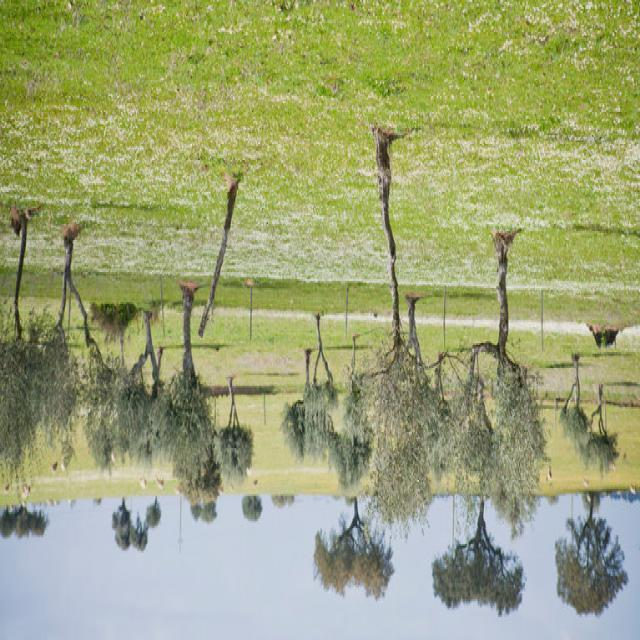tree: (351, 135, 441, 538), (432, 232, 552, 528), (42, 228, 114, 452), (0, 222, 62, 482), (430, 480, 534, 616), (94, 305, 176, 475), (552, 480, 632, 620), (314, 479, 396, 609), (163, 277, 213, 481), (288, 344, 336, 464), (214, 394, 262, 484), (578, 386, 622, 470), (112, 489, 164, 557), (558, 346, 590, 442), (1, 499, 51, 539), (238, 486, 262, 524)
